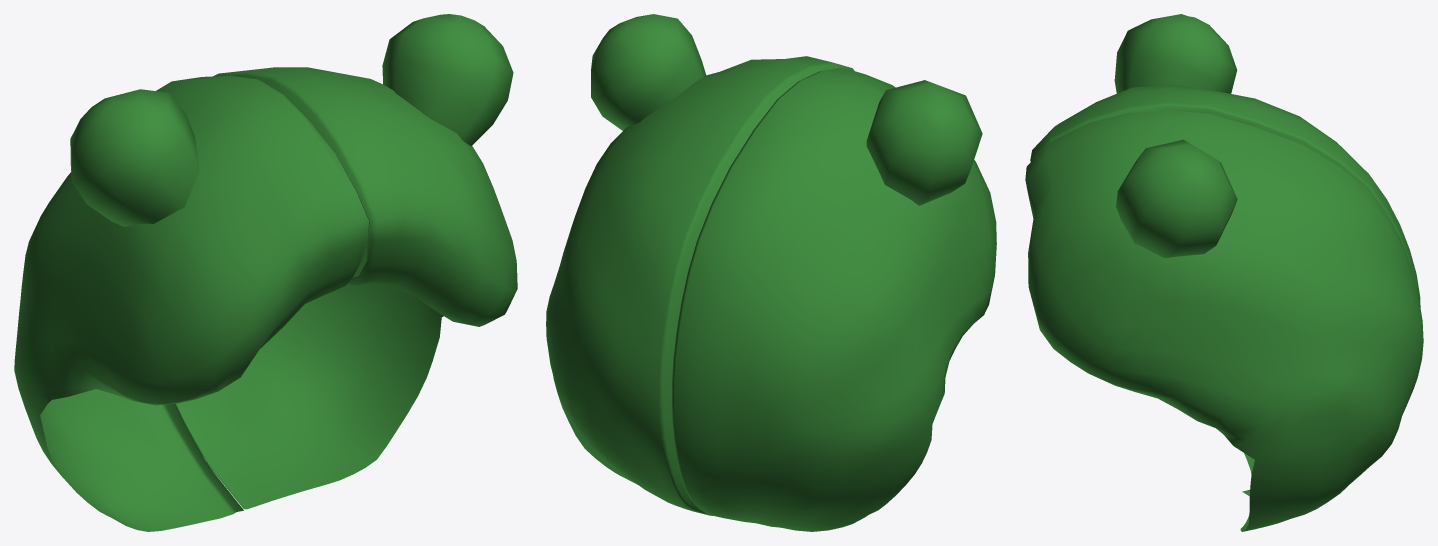
File: Girl Hair 12.glb
3 renders of one model, left to right at view 1: azimuth 30°, elevation 25°; view 2: azimuth 150°, elevation 25°; view 3: azimuth 270°, elevation 25°, orthographic. The views are drawn at different scales.
Parts seen in each view (by area): view 1: GirlHair12; view 2: GirlHair12; view 3: GirlHair12.
Boxes of the visible parts, bbox=[...] form: GirlHair12: bbox=[14, 14, 517, 531]; GirlHair12: bbox=[546, 14, 996, 531]; GirlHair12: bbox=[1025, 14, 1423, 531].
Size of the model in its own units: 0.00948 by 0.0103 by 0.00887.
